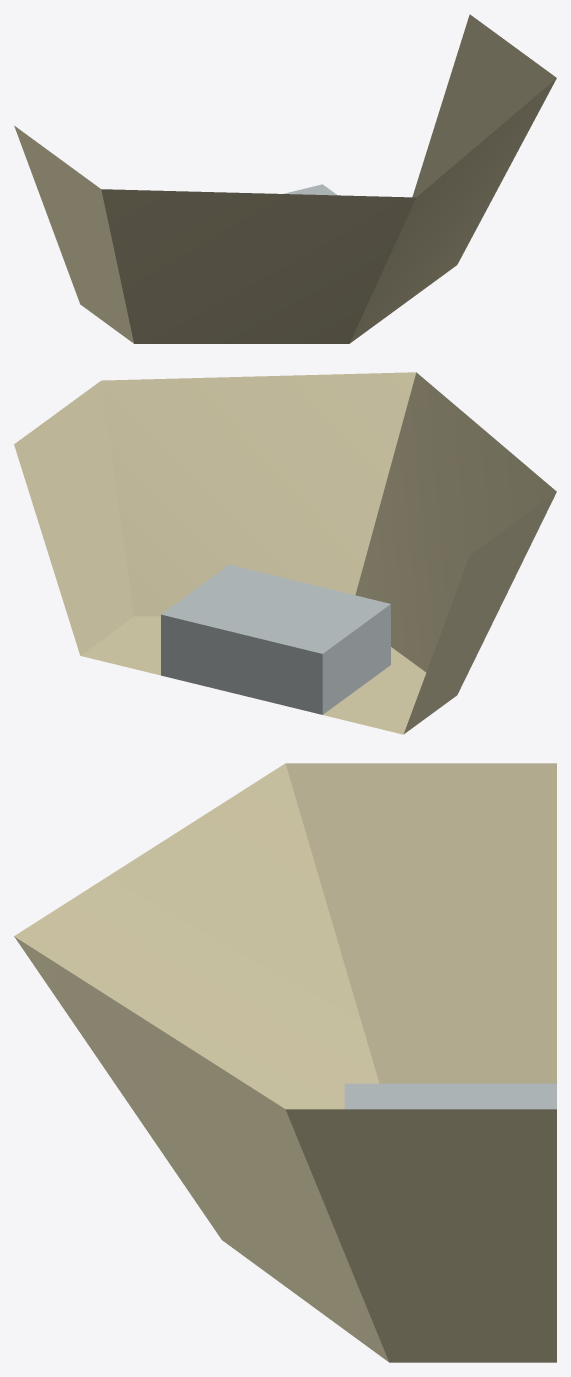
Rendered from lampWall.glb.
The picture shows the model from 3 angles, top to bottom: view 1: azimuth 30°, elevation 25°; view 2: azimuth 150°, elevation 25°; view 3: azimuth 270°, elevation 25°; orthographic projection. The views are drawn at different scales.
Visible parts, largest first — view 1: lampWall; view 2: lampWall; view 3: lampWall.
Boxes of the visible parts, x1,y1,x2,y2 form: lampWall: [14, 14, 556, 343]; lampWall: [14, 372, 556, 734]; lampWall: [14, 763, 556, 1362].
Size of the model in its own units: 0.2266 by 0.0928 by 0.1503.
